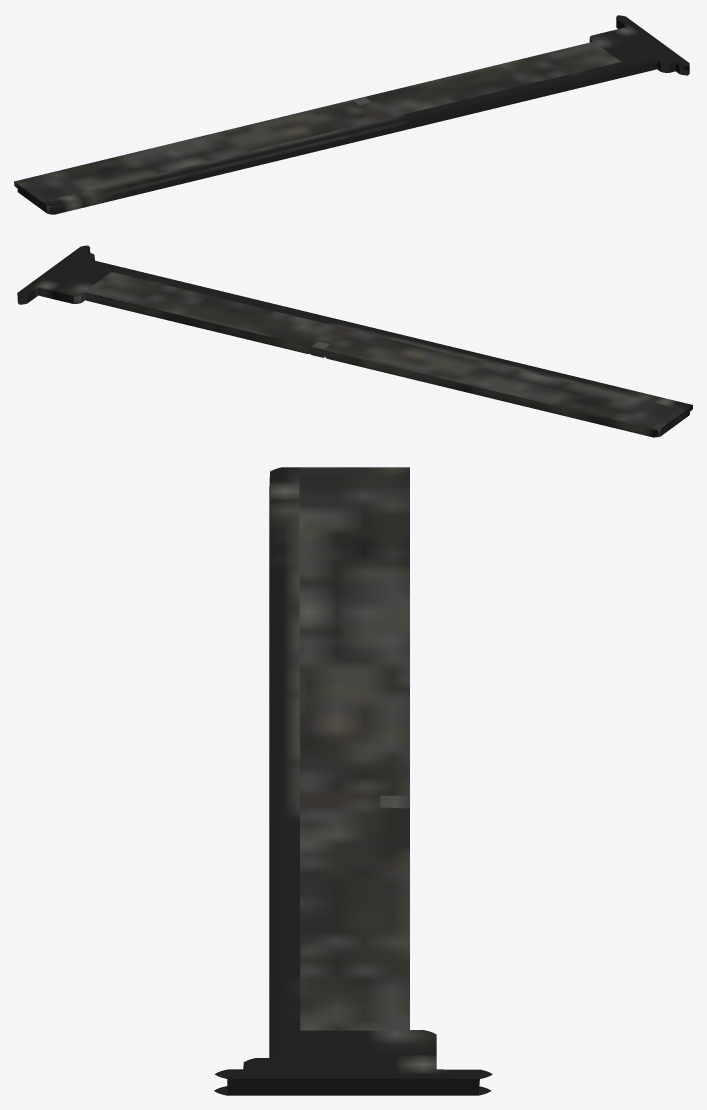
File: SM_EC_Fence_Part_54.fbx
The picture shows the model from 3 angles, top to bottom: view 1: azimuth 30°, elevation 25°; view 2: azimuth 150°, elevation 25°; view 3: azimuth 270°, elevation 25°; orthographic projection. The views are drawn at different scales.
Parts seen in each view (by area): view 1: SM_EC_Fence_Part_54; view 2: SM_EC_Fence_Part_54; view 3: SM_EC_Fence_Part_54.
Part boxes in pixels (x1,y1,x2,y2): SM_EC_Fence_Part_54: [14, 15, 689, 214]; SM_EC_Fence_Part_54: [17, 245, 692, 437]; SM_EC_Fence_Part_54: [214, 467, 492, 1095].
Bounding box in the file's own units: 0.9707 × 0.1883 × 0.015.
